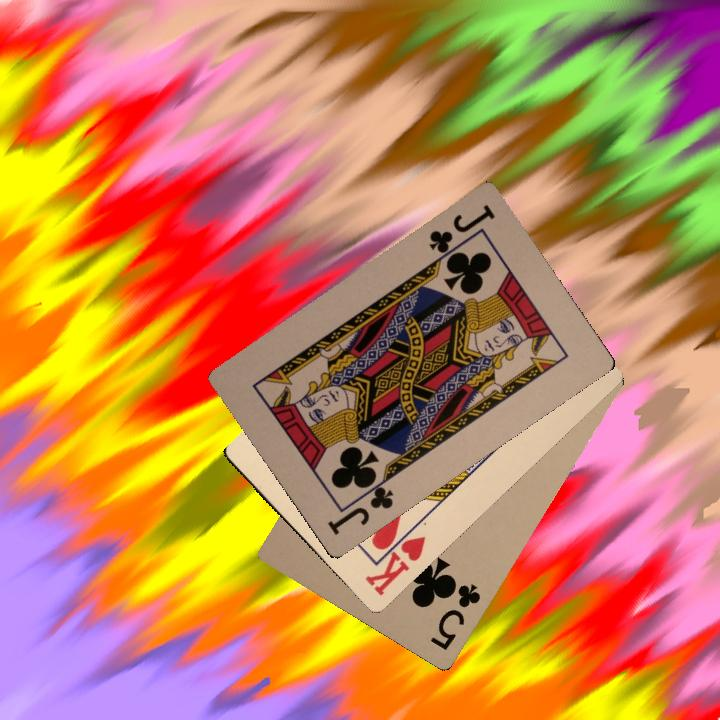5c: (426, 578, 484, 653)
Jc: (425, 200, 498, 266), (323, 473, 397, 538)
Kh: (360, 522, 429, 598)
